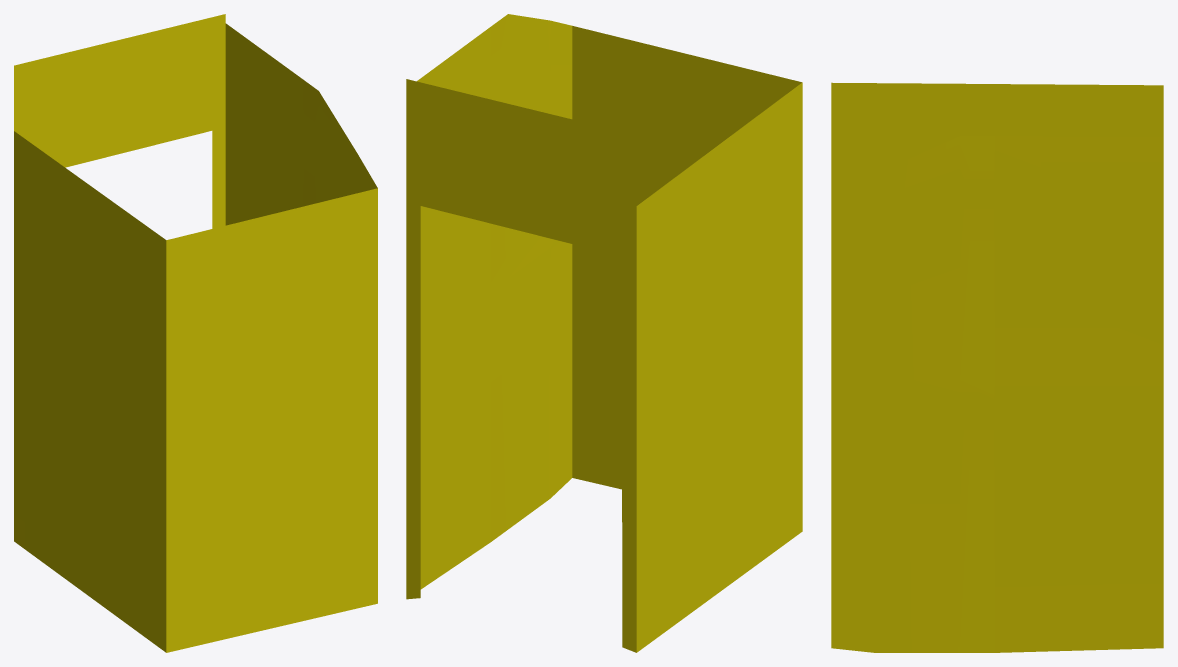
3 renders of one model, left to right at view 1: azimuth 30°, elevation 25°; view 2: azimuth 150°, elevation 25°; view 3: azimuth 270°, elevation 25°, orthographic. The views are drawn at different scales.
Parts seen in each view (by area): view 1: BH04_WP_08; view 2: BH04_WP_08; view 3: BH04_WP_08.
Boxes of the visible parts, x1,y1,x2,y2 form: BH04_WP_08: (14,14,377,652); BH04_WP_08: (406,14,802,652); BH04_WP_08: (831,82,1163,652).
Bounding box in the file's own units: 140 × 305 × 175.
